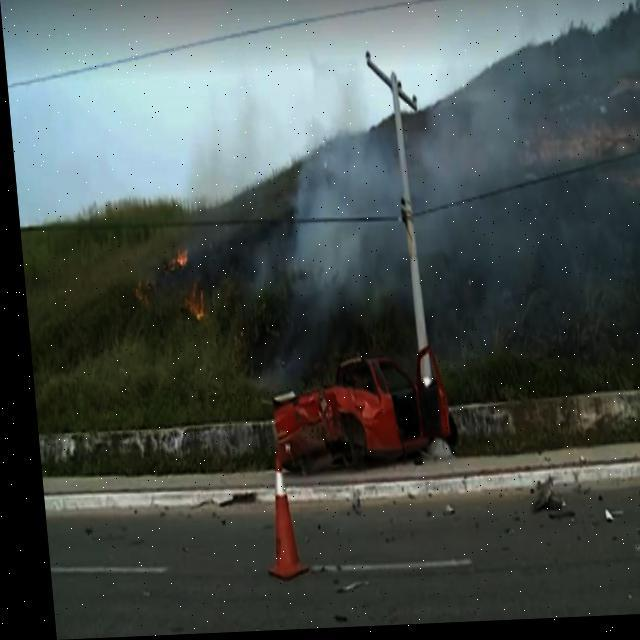Fire: (176, 290, 202, 326), (164, 254, 184, 270)
